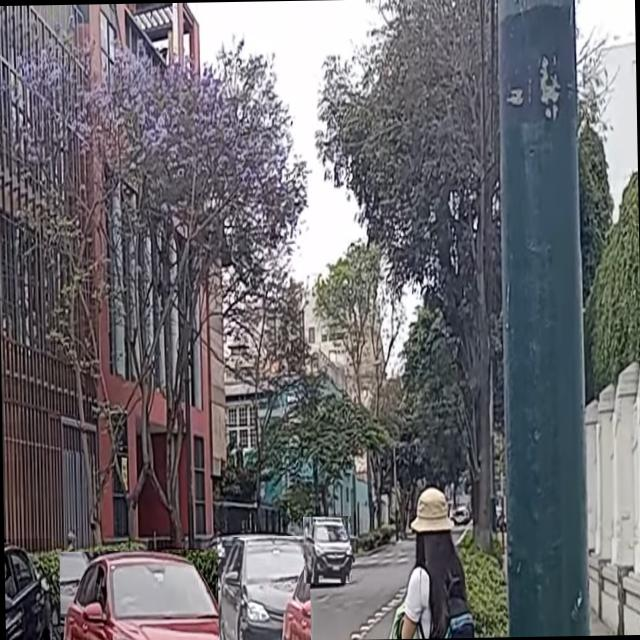car: (59, 548, 250, 640), (216, 535, 310, 640), (3, 537, 52, 640), (303, 516, 352, 584)
